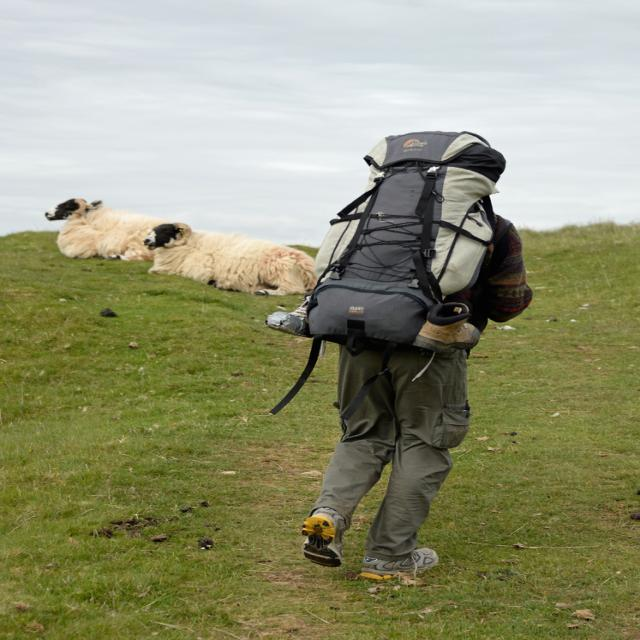backpack: (296, 129, 512, 359)
